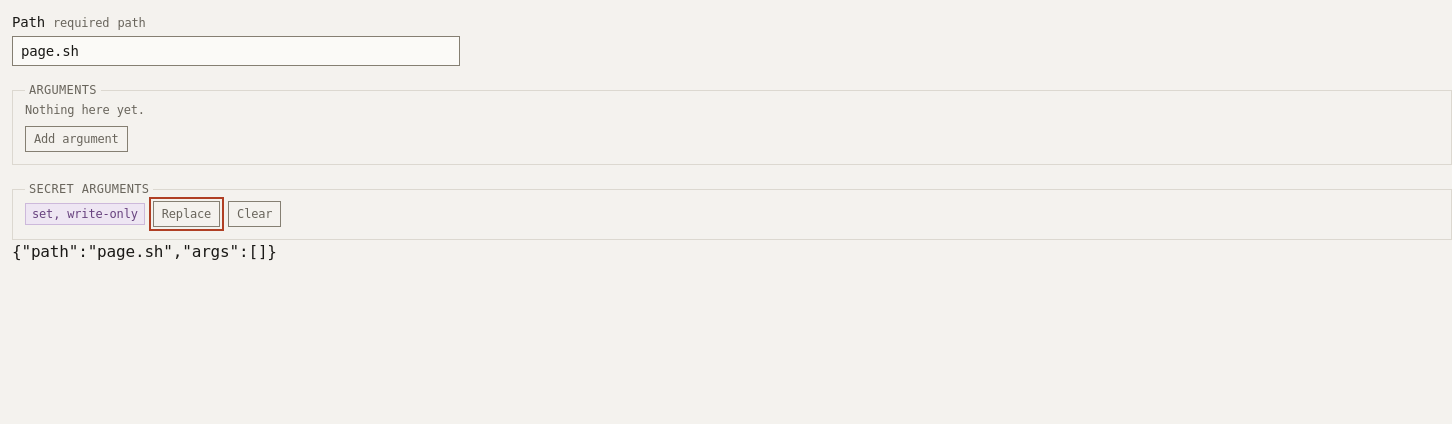
Test: a secret that is a list: the program’s secret arguments › replaced, opens empty with Add focused, takes entries in password boxes, and says they replace the stored ones
Click the button with aria-label "Replace Secret arguments" at coordinates (186, 214), box x1=153 y1=201 x2=220 y2=227
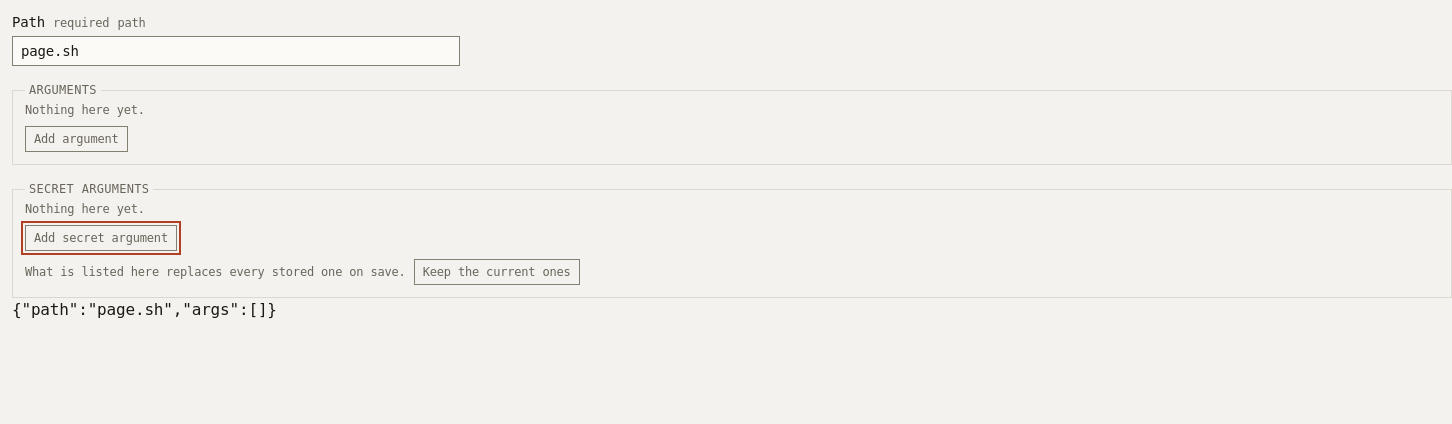
expect the text "What is listed here replaces every stored one on save." is shown: met, box x1=25 y1=264 x2=406 y2=280
Click the button "Add secret argument" at coordinates (101, 238), box x1=25 y1=225 x2=177 y2=251
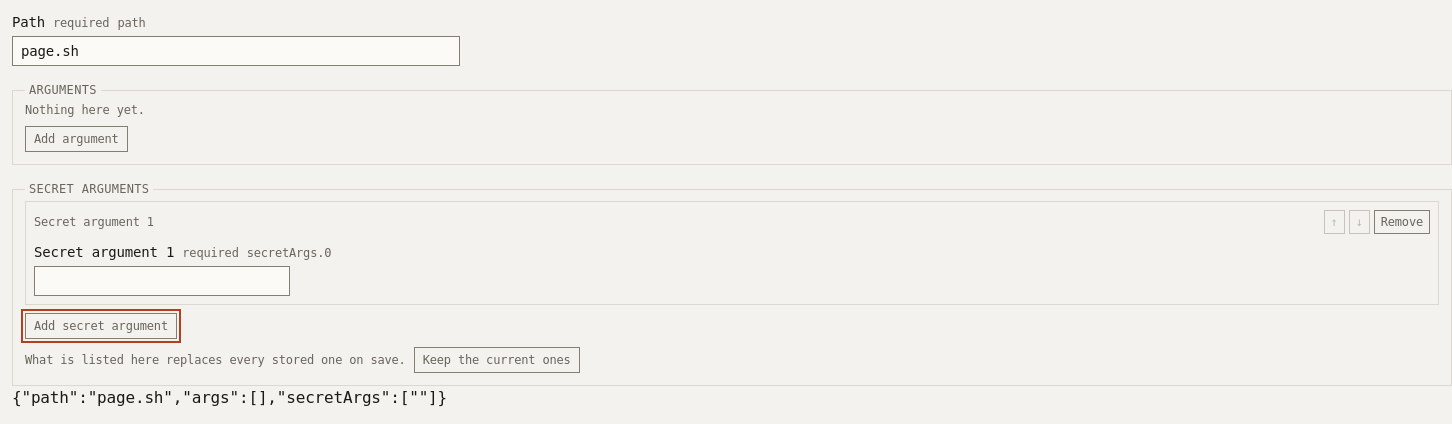
Type "s3cret" into the password field labelled "Secret argument 1" at coordinates (162, 281), box x1=34 y1=266 x2=290 y2=296
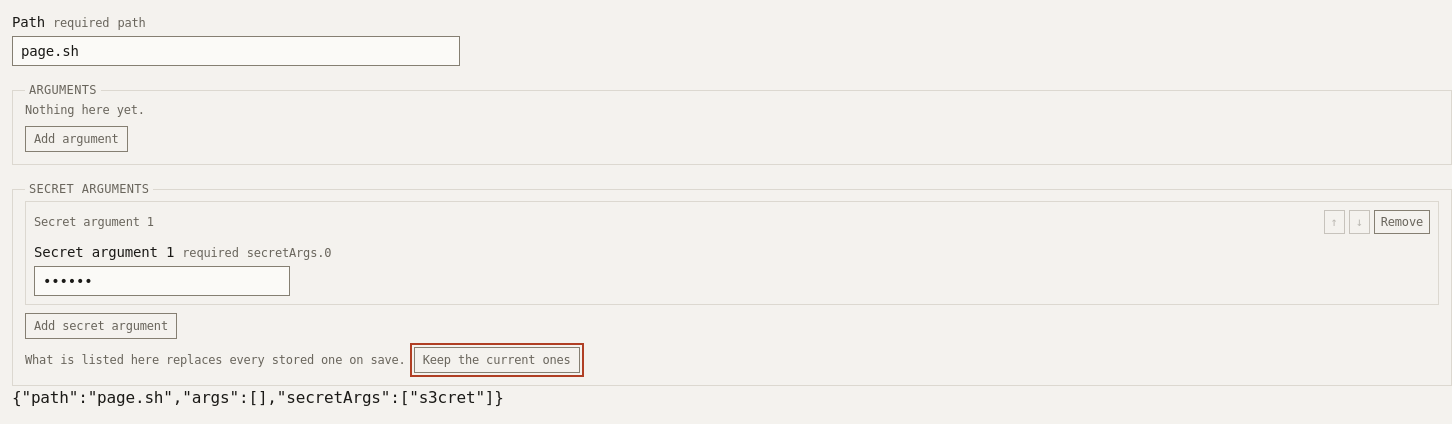
Click the button with aria-label "Keep the current ones, Secret arguments" at coordinates (497, 360), box x1=414 y1=347 x2=580 y2=373
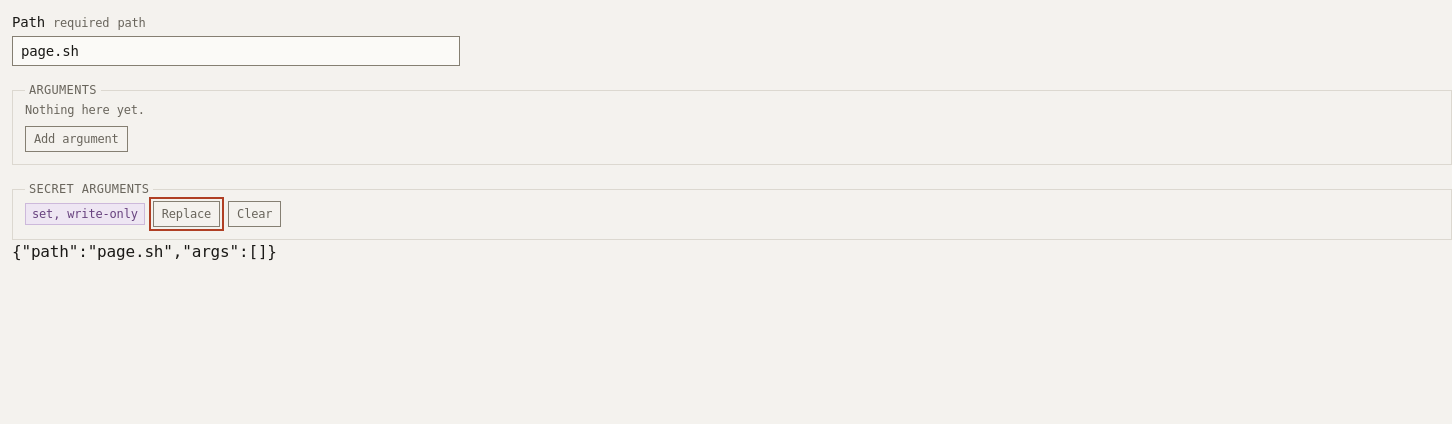
expect the text "set, write-only" is shown: met, box x1=25 y1=203 x2=145 y2=225
